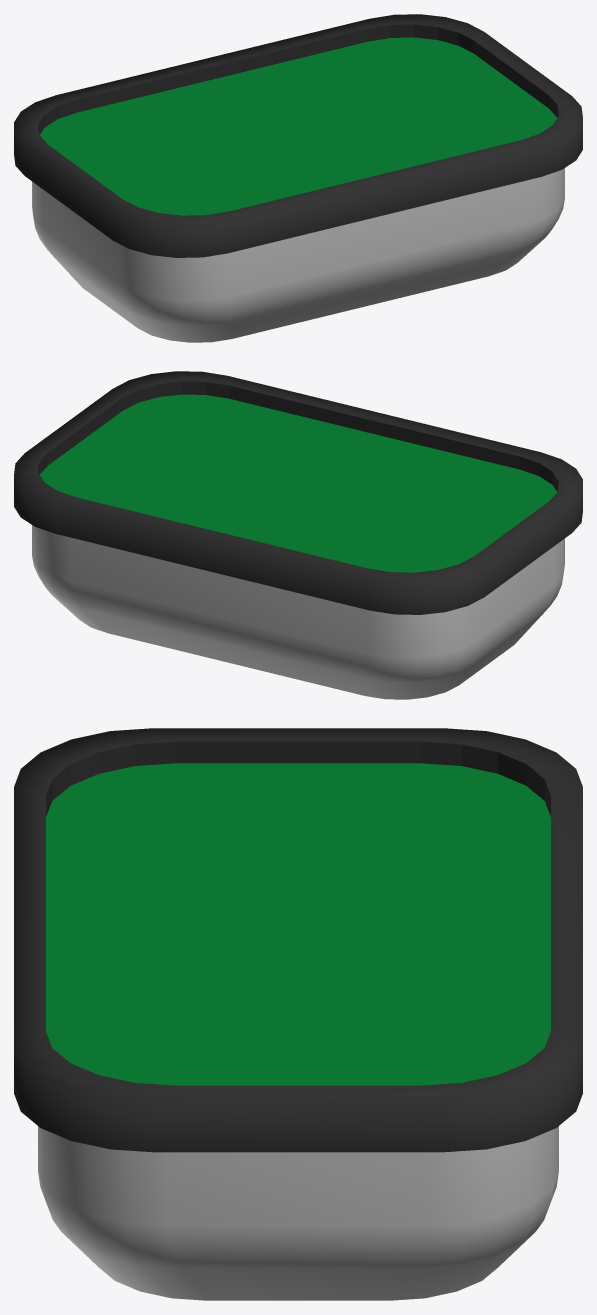
Rendered from Flowerbed-04.fbx.
3 renders of one model, top to bottom at view 1: azimuth 30°, elevation 25°; view 2: azimuth 150°, elevation 25°; view 3: azimuth 270°, elevation 25°, orthographic. The views are drawn at different scales.
Visible parts, largest first — view 1: Flowerbed-04; view 2: Flowerbed-04; view 3: Flowerbed-04.
Boxes of the visible parts, x1,y1,x2,y2 form: Flowerbed-04: (14,14,582,342); Flowerbed-04: (14,371,582,699); Flowerbed-04: (14,728,582,1300).
Bounding box in the file's own units: 2.28 × 0.673 × 1.48.
